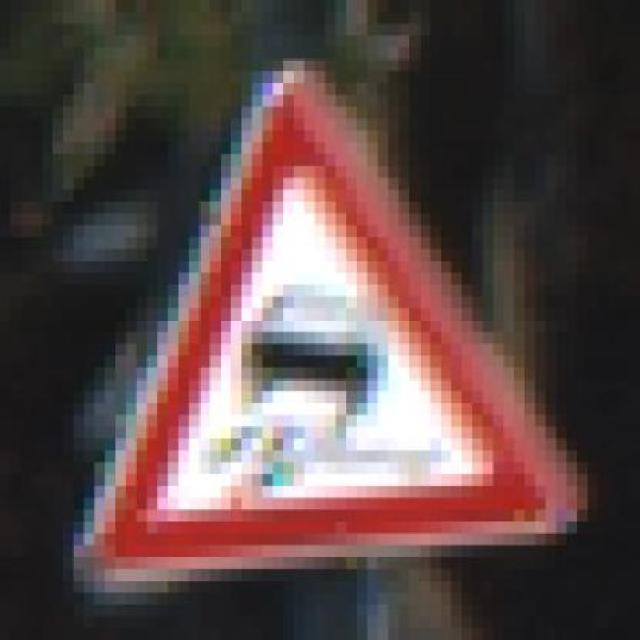Slippery Road Ahead: (52, 71, 598, 592)
